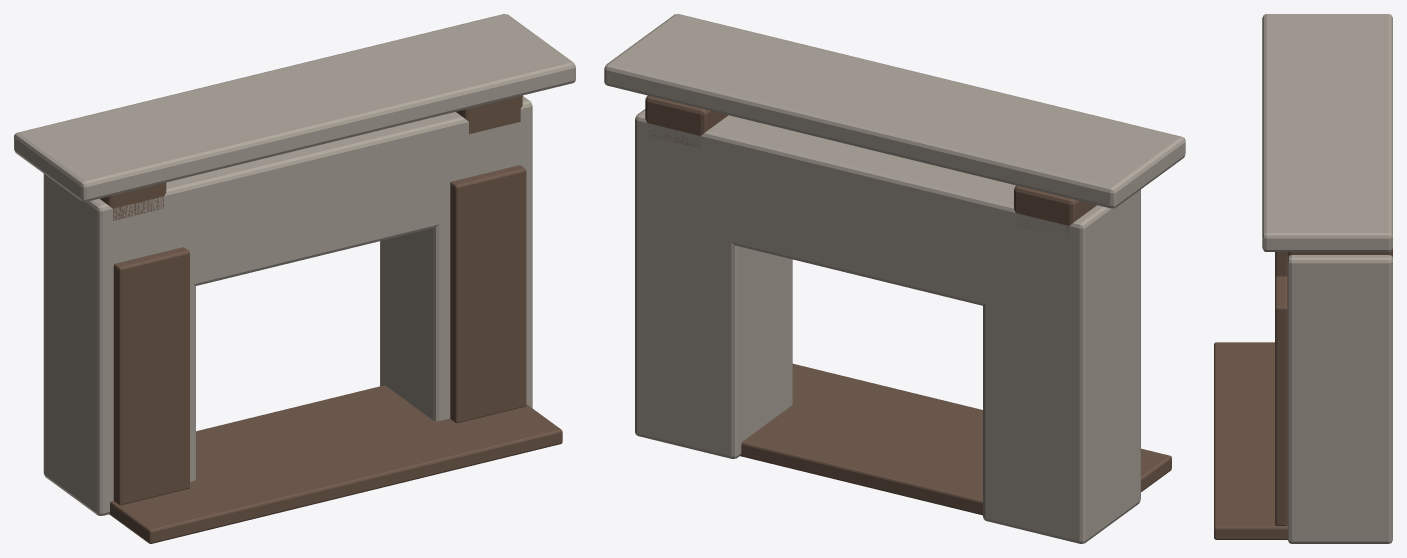
The picture shows the model from 3 angles, left to right: view 1: azimuth 30°, elevation 25°; view 2: azimuth 150°, elevation 25°; view 3: azimuth 270°, elevation 25°; orthographic projection. The views are drawn at different scales.
Parts seen in each view (by area): view 1: fireplace; view 2: fireplace; view 3: fireplace.
Boxes of the visible parts, x1=… form: fireplace: x1=14, y1=14, x2=575, y2=543; fireplace: x1=604, y1=14, x2=1185, y2=543; fireplace: x1=1214, y1=14, x2=1392, y2=543.
Size of the model in its own units: 2.5 by 1.7 by 0.85.
